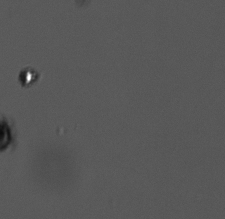Dead Cell: (1, 117, 11, 157)
Living Cell: (19, 67, 38, 88)
